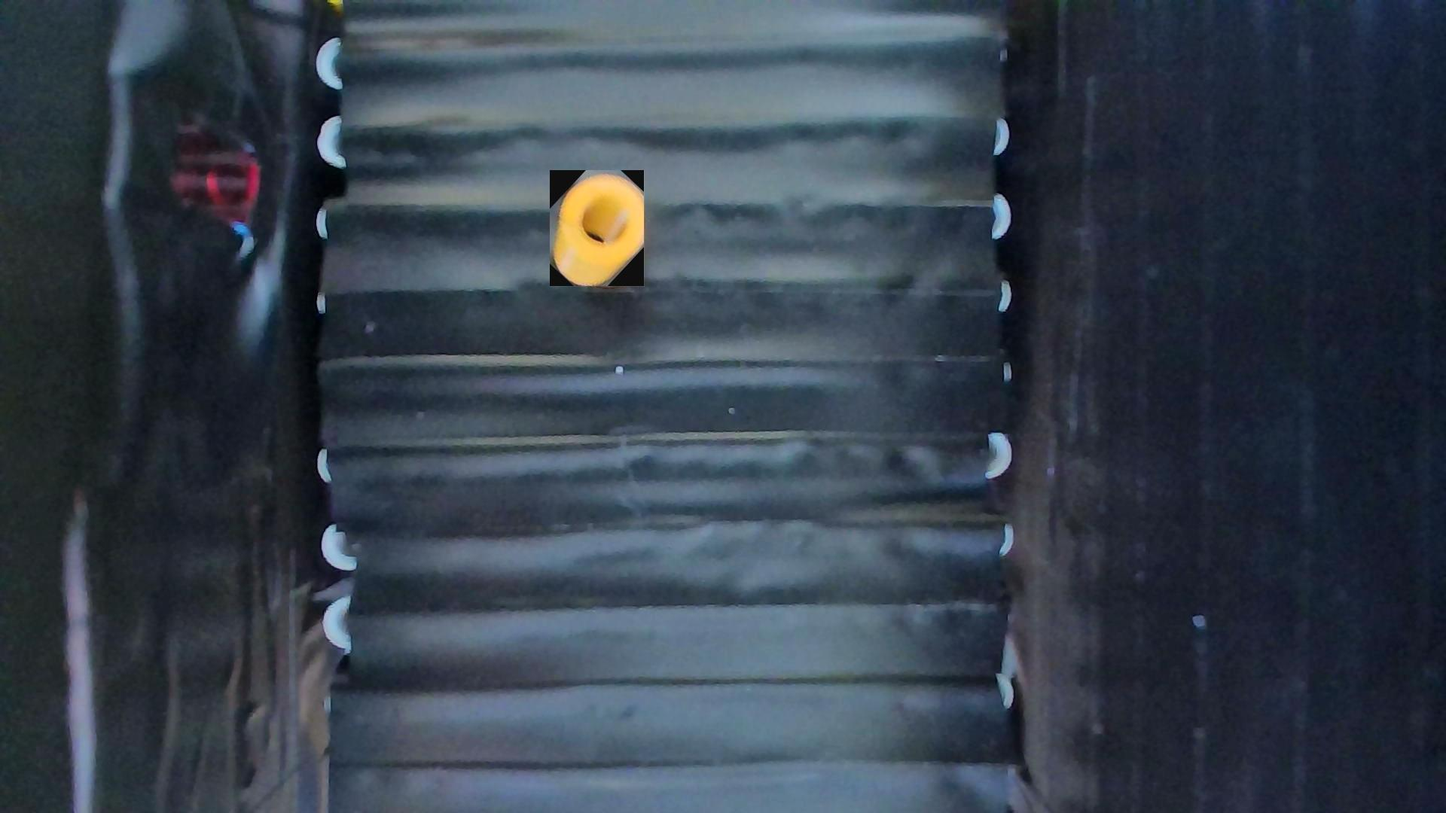spring: (550, 171, 645, 288)
